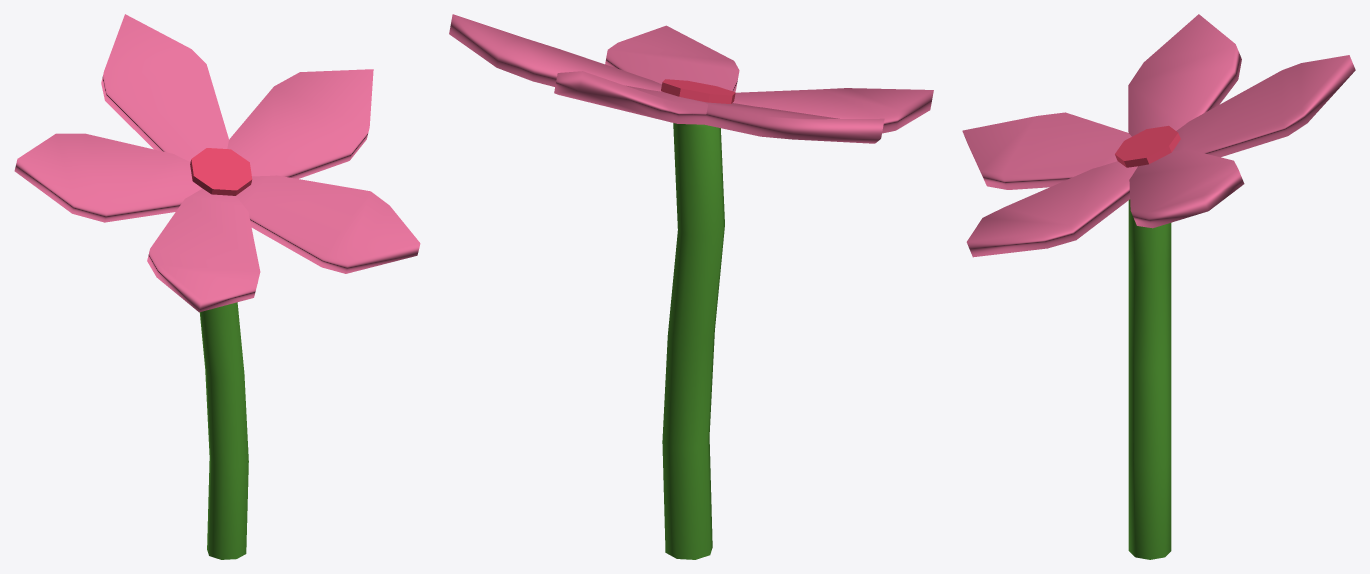
The model's file is Flower_Pink_4.fbx.
3 renders of one model, left to right at view 1: azimuth 30°, elevation 25°; view 2: azimuth 150°, elevation 25°; view 3: azimuth 270°, elevation 25°, orthographic. The views are drawn at different scales.
Parts seen in each view (by area): view 1: Cube.087, Cylinder.616, Cylinder.618; view 2: Cube.087, Cylinder.616, Cylinder.618; view 3: Cube.087, Cylinder.616, Cylinder.618.
Boxes of the visible parts, <box> form: Cube.087: <box>14,14,420,312</box>; Cylinder.616: <box>199,302,248,559</box>; Cylinder.618: <box>190,148,252,195</box>; Cube.087: <box>449,14,933,143</box>; Cylinder.616: <box>662,123,724,559</box>; Cylinder.618: <box>661,79,735,103</box>; Cube.087: <box>962,14,1355,257</box>; Cylinder.616: <box>1128,199,1171,559</box>; Cylinder.618: <box>1115,125,1180,167</box>.
Bounding box in the file's own units: 71.56 × 89.76 × 64.99.
